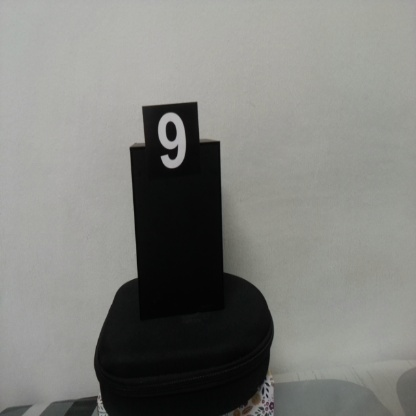id_9: (142, 106, 200, 185)
